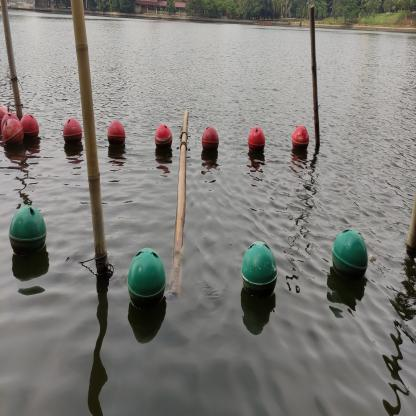green_buoy: (127, 244, 167, 314), (8, 203, 50, 265), (330, 222, 368, 288), (242, 240, 277, 304)
red_buoy: (60, 116, 85, 152), (2, 118, 24, 154), (247, 123, 268, 156), (152, 124, 173, 156), (107, 119, 128, 151), (290, 125, 310, 155), (200, 126, 220, 156), (21, 112, 40, 143), (1, 112, 20, 135), (0, 106, 12, 128)
